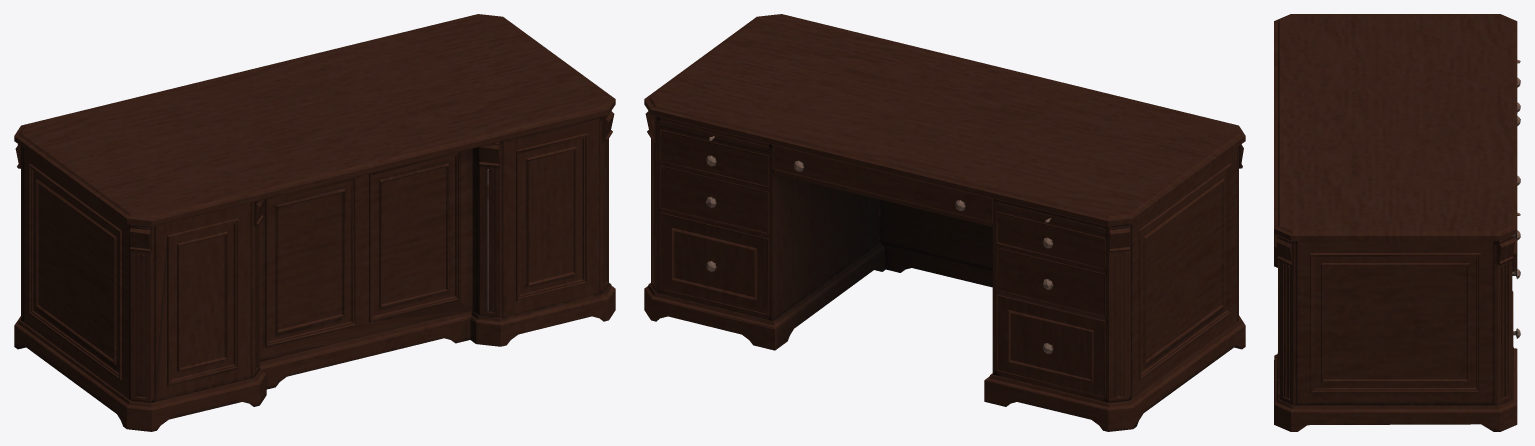
File: desk.obj
3 renders of one model, left to right at view 1: azimuth 30°, elevation 25°; view 2: azimuth 150°, elevation 25°; view 3: azimuth 270°, elevation 25°, orthographic. The views are drawn at different scales.
Parts seen in each view (by area): view 1: 10240_Office_Desk_v3_max2011; view 2: 10240_Office_Desk_v3_max2011; view 3: 10240_Office_Desk_v3_max2011.
Boxes of the visible parts, x1,y1,x2,y2 form: 10240_Office_Desk_v3_max2011: (14,14,615,431); 10240_Office_Desk_v3_max2011: (644,14,1245,431); 10240_Office_Desk_v3_max2011: (1274,14,1520,431).
Bounding box in the file's own units: 1 × 0.4187 × 0.4722.
